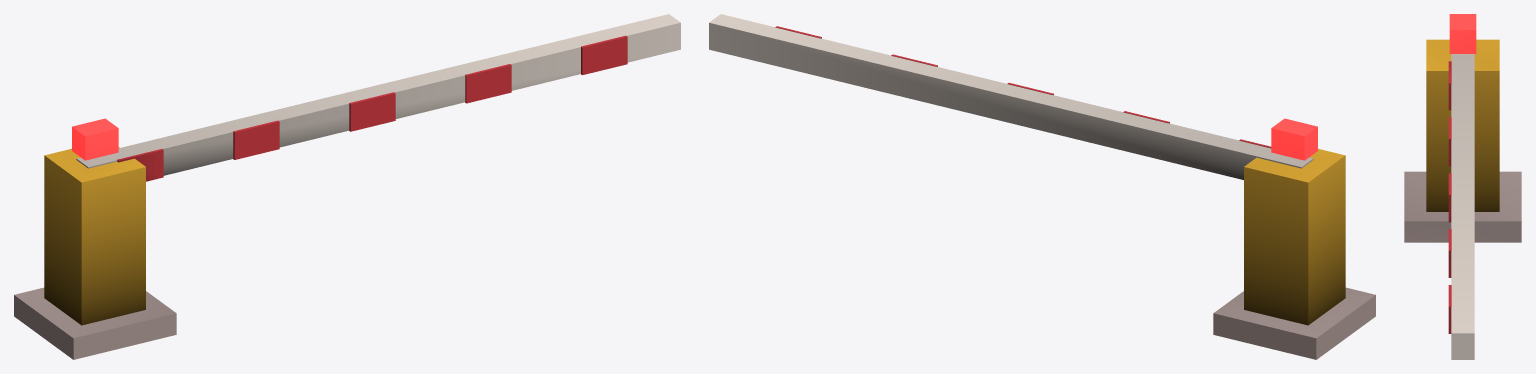
3 views of the same model, side by side, from view 1: azimuth 30°, elevation 25°; view 2: azimuth 150°, elevation 25°; view 3: azimuth 270°, elevation 25° (orthographic).
Visible parts, largest first — view 1: gateArm_pal_picketWhite, body_pal_schoolBusYellow, gateArm_pal_survivorRed, body_pal_sidewalk, gateBeaconMount_emi_sirenRed; view 2: gateArm_pal_picketWhite, body_pal_schoolBusYellow, body_pal_sidewalk, gateBeaconMount_emi_sirenRed, gateArm_pal_survivorRed; view 3: body_pal_schoolBusYellow, gateArm_pal_picketWhite, body_pal_sidewalk, gateBeaconMount_emi_sirenRed, gateArm_pal_survivorRed.
Boxes of the visible parts, x1=… form: gateArm_pal_picketWhite: x1=76, y1=14, x2=680, y2=175; body_pal_schoolBusYellow: x1=44, y1=147, x2=145, y2=325; gateArm_pal_survivorRed: x1=117, y1=35, x2=627, y2=181; body_pal_sidewalk: x1=14, y1=287, x2=176, y2=359; gateBeaconMount_emi_sirenRed: x1=72, y1=118, x2=118, y2=160; gateArm_pal_picketWhite: x1=709, y1=14, x2=1313, y2=179; body_pal_schoolBusYellow: x1=1244, y1=148, x2=1345, y2=325; body_pal_sidewalk: x1=1213, y1=287, x2=1375, y2=359; gateBeaconMount_emi_sirenRed: x1=1271, y1=118, x2=1317, y2=160; gateArm_pal_survivorRed: x1=775, y1=26, x2=1271, y2=148; body_pal_schoolBusYellow: x1=1426, y1=39, x2=1499, y2=211; gateArm_pal_picketWhite: x1=1451, y1=54, x2=1474, y2=359; body_pal_sidewalk: x1=1404, y1=171, x2=1521, y2=242; gateBeaconMount_emi_sirenRed: x1=1449, y1=14, x2=1476, y2=53; gateArm_pal_survivorRed: x1=1448, y1=61, x2=1451, y2=333.
Bounding box in the file's own units: 4.9 × 1.47 × 0.8.
